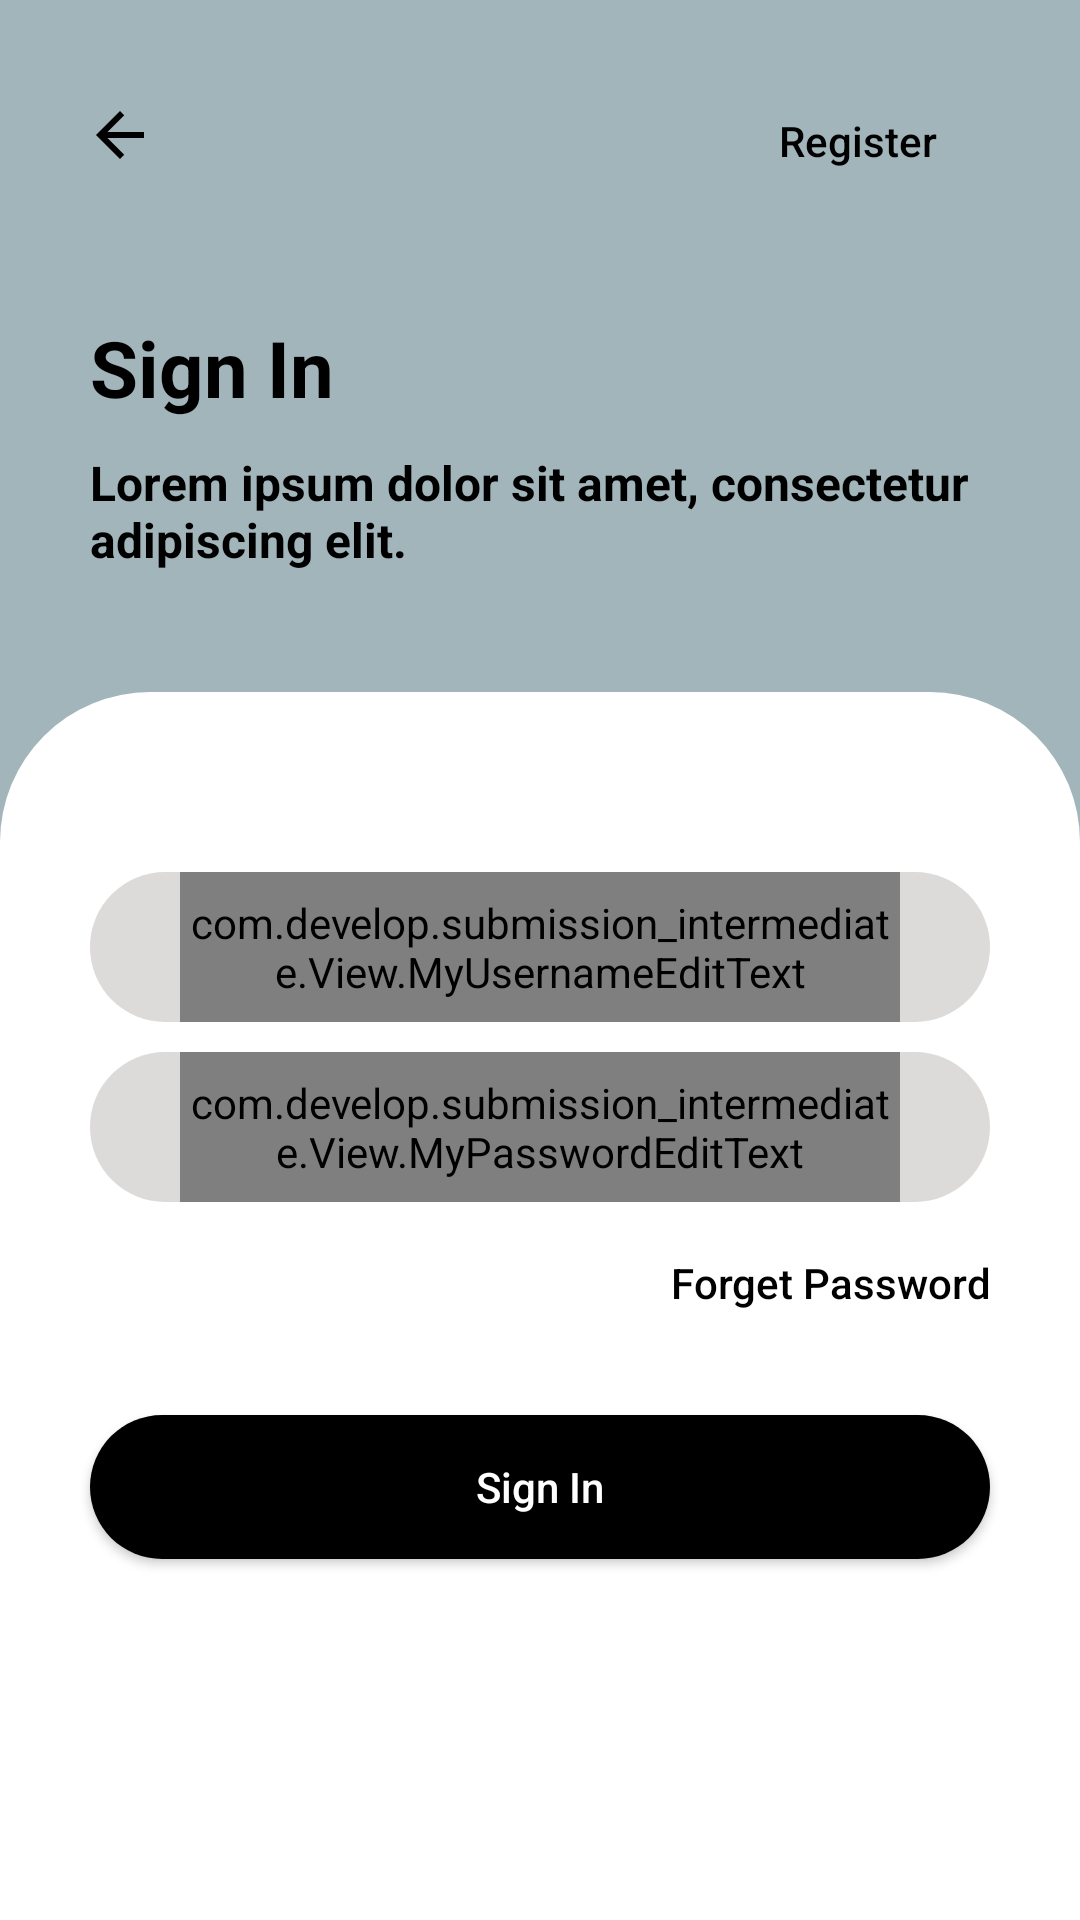

Icon bounding boxes for this 1080px x 1920px phone screenshot, format bbox=[x1, y1, x2, y2]:
arrow back: bbox=[96, 111, 144, 159]
